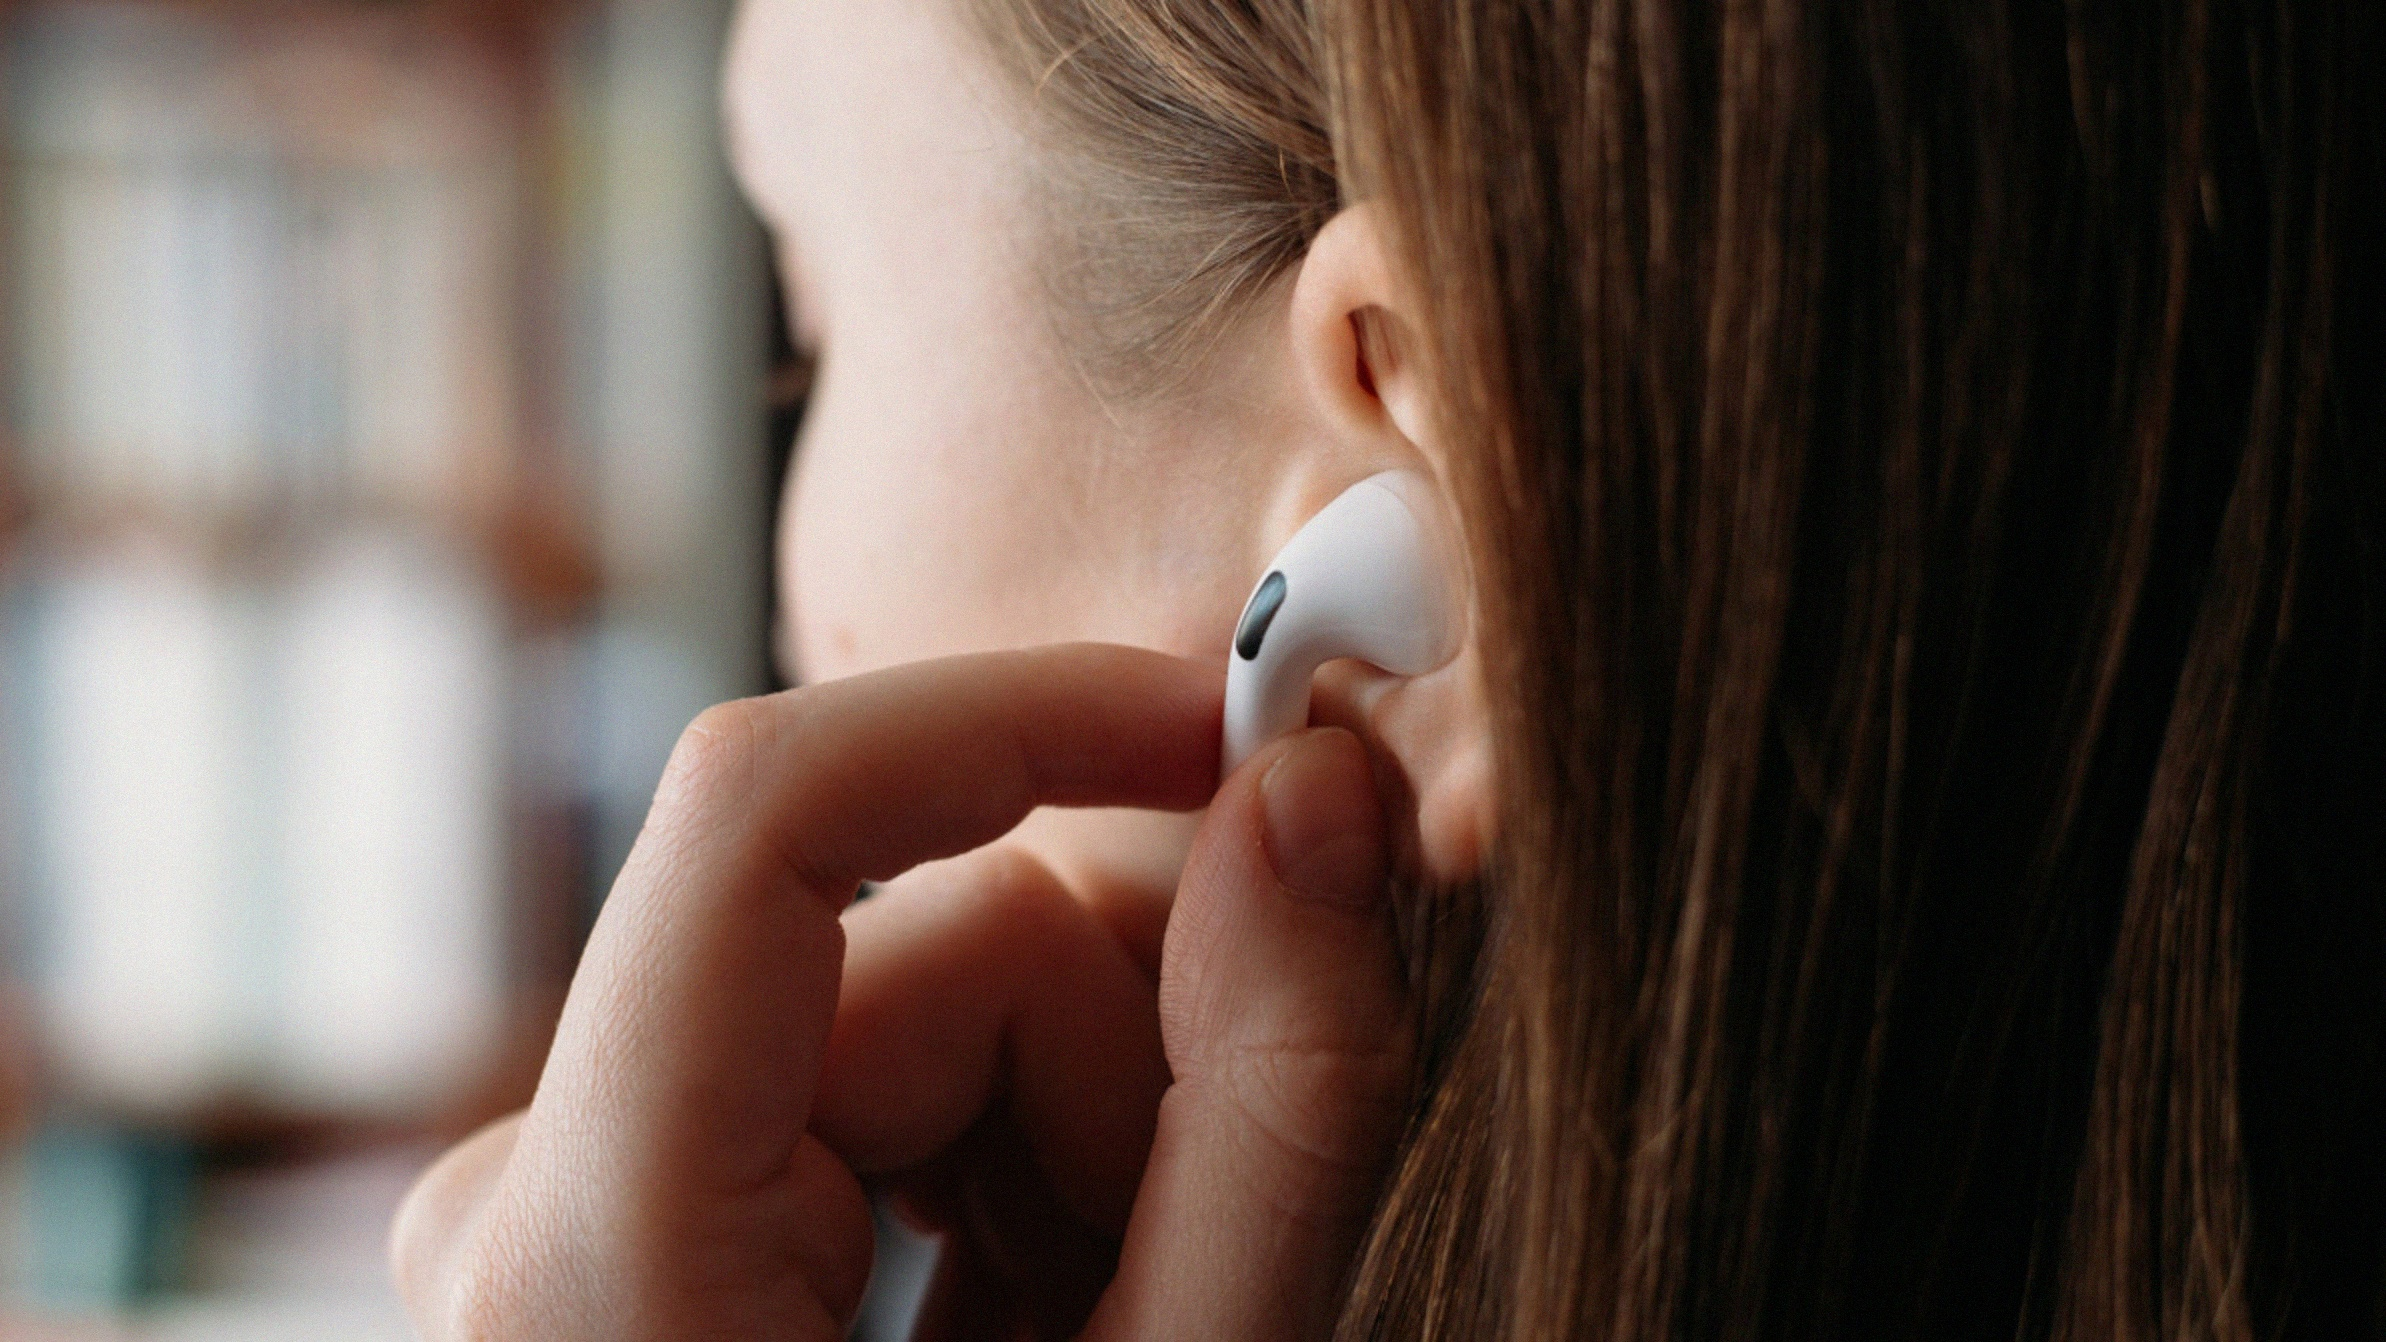earphone: (1216, 198, 1583, 898)
